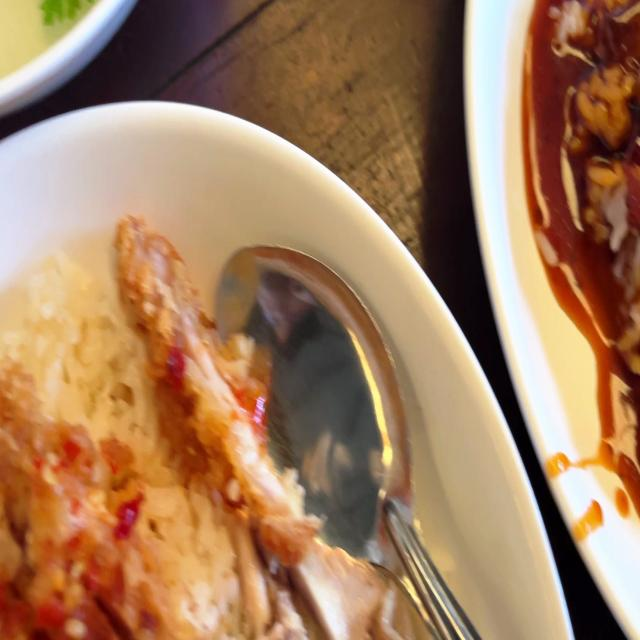chicken_rice: (0, 214, 417, 640)
fried_chicken: (128, 223, 303, 552), (0, 417, 133, 640)
red_pork_and_crispy_pork: (545, 0, 640, 374)
